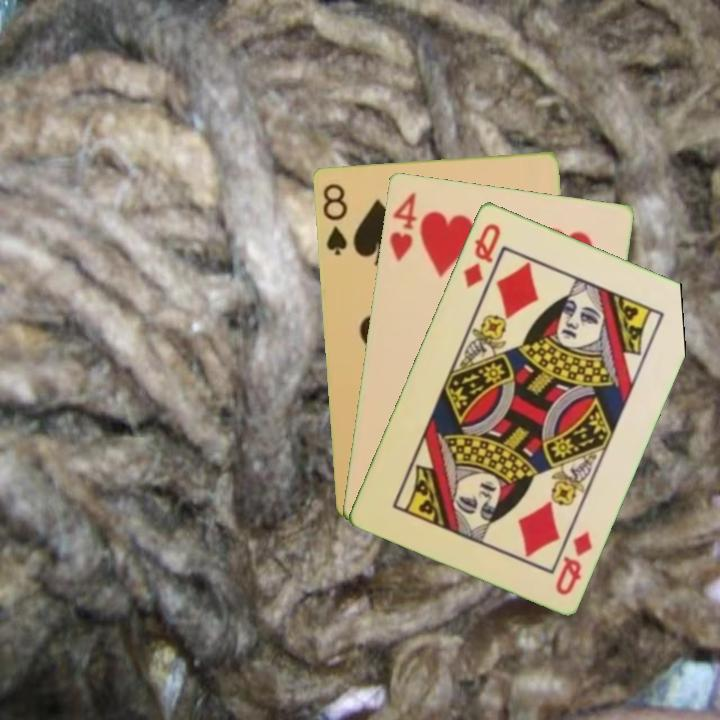4h: (385, 188, 420, 263)
8s: (318, 180, 350, 258)
Qd: (551, 527, 595, 598), (460, 219, 503, 291)
